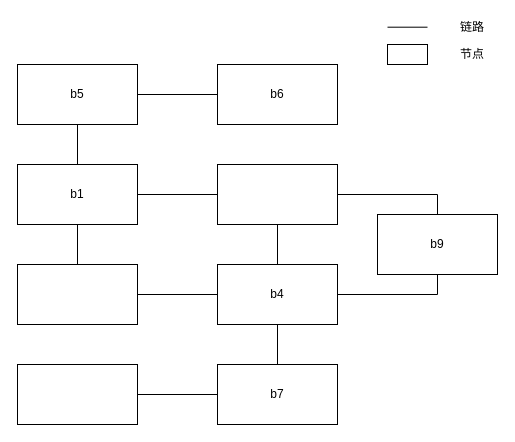
The diagram is 515 pixels wide and 442 high, and some of its shapes have lost their labels. The centre of each missing label's shape, as x and y in pixels:
b2: the point at 277,194
b3: the point at 77,294
b8: the point at 77,394
